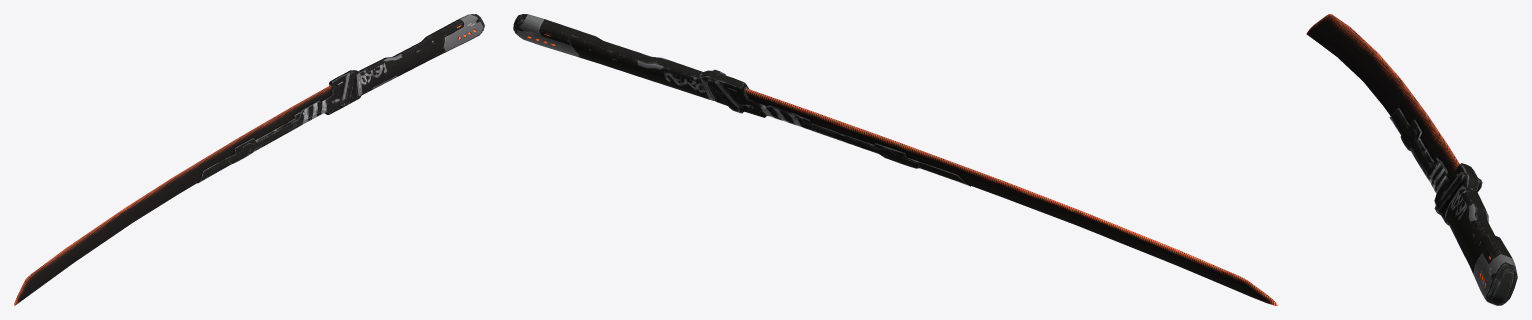
3 renders of one model, left to right at view 1: azimuth 30°, elevation 25°; view 2: azimuth 150°, elevation 25°; view 3: azimuth 270°, elevation 25°, orthographic. The views are drawn at different scales.
Visible parts, largest first — view 1: lp.001; view 2: lp.001; view 3: lp.001.
Boxes of the visible parts, x1=… form: lp.001: x1=14, y1=14, x2=484, y2=305; lp.001: x1=513, y1=14, x2=1277, y2=305; lp.001: x1=1306, y1=14, x2=1517, y2=305.
Bounding box in the file's own units: 11314 × 2723 × 2060.
Materials: 1 (1 with a texture image).
